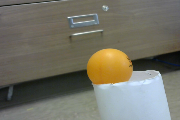PingPongBall: (88, 49, 133, 86)
